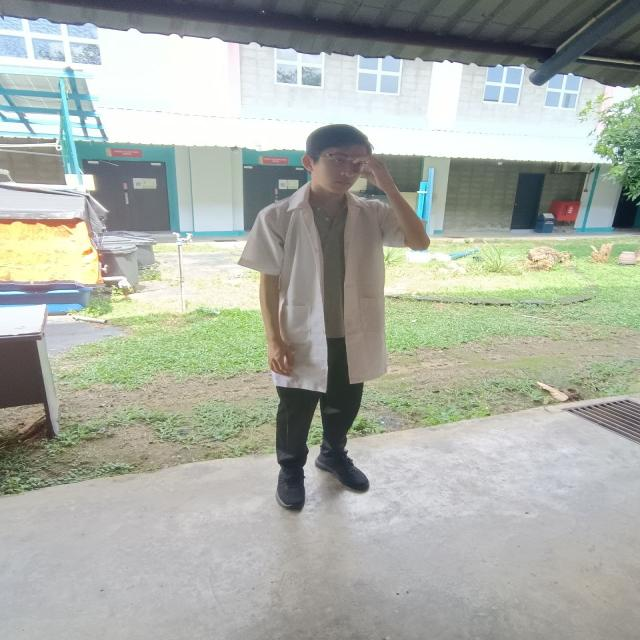person_with_labcoat: (239, 124, 429, 510)
